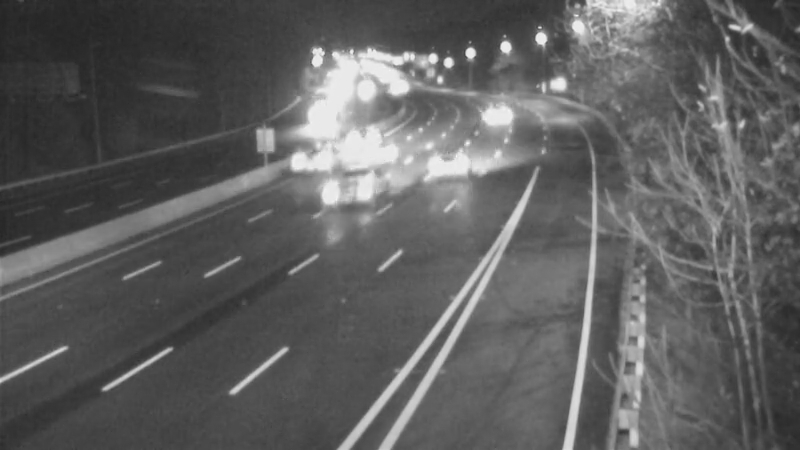vehicle: (276, 113, 356, 193), (314, 150, 394, 230), (407, 118, 487, 198), (464, 88, 514, 138), (337, 103, 387, 153), (296, 95, 346, 145)
